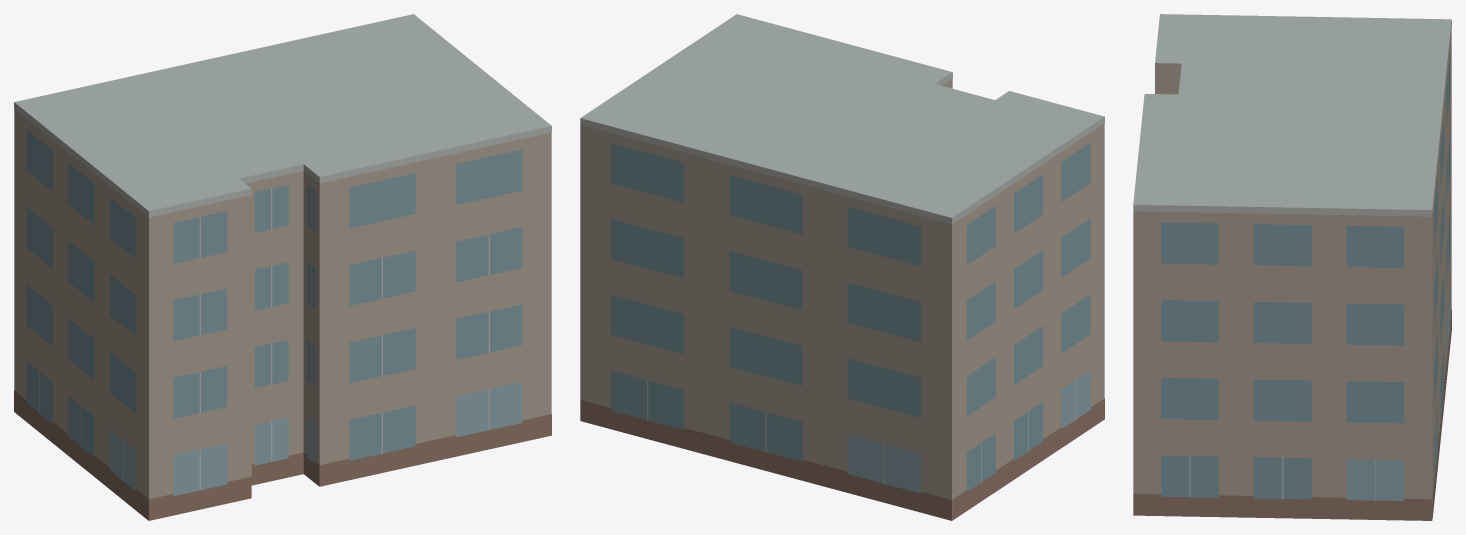
The model's file is survey-upis-32911614.glb.
3 views of the same model, side by side, from view 1: azimuth 30°, elevation 25°; view 2: azimuth 150°, elevation 25°; view 3: azimuth 270°, elevation 25° (orthographic). The views are drawn at different scales.
Parts seen in each view (by area): view 1: survey-upis-32911614.tmp; view 2: survey-upis-32911614.tmp; view 3: survey-upis-32911614.tmp.
Boxes of the visible parts, bbox=[...] form: survey-upis-32911614.tmp: bbox=[14, 14, 551, 520]; survey-upis-32911614.tmp: bbox=[580, 14, 1104, 520]; survey-upis-32911614.tmp: bbox=[1133, 14, 1451, 520].
Size of the model in its own units: 15.71 by 11.6 by 10.79.
